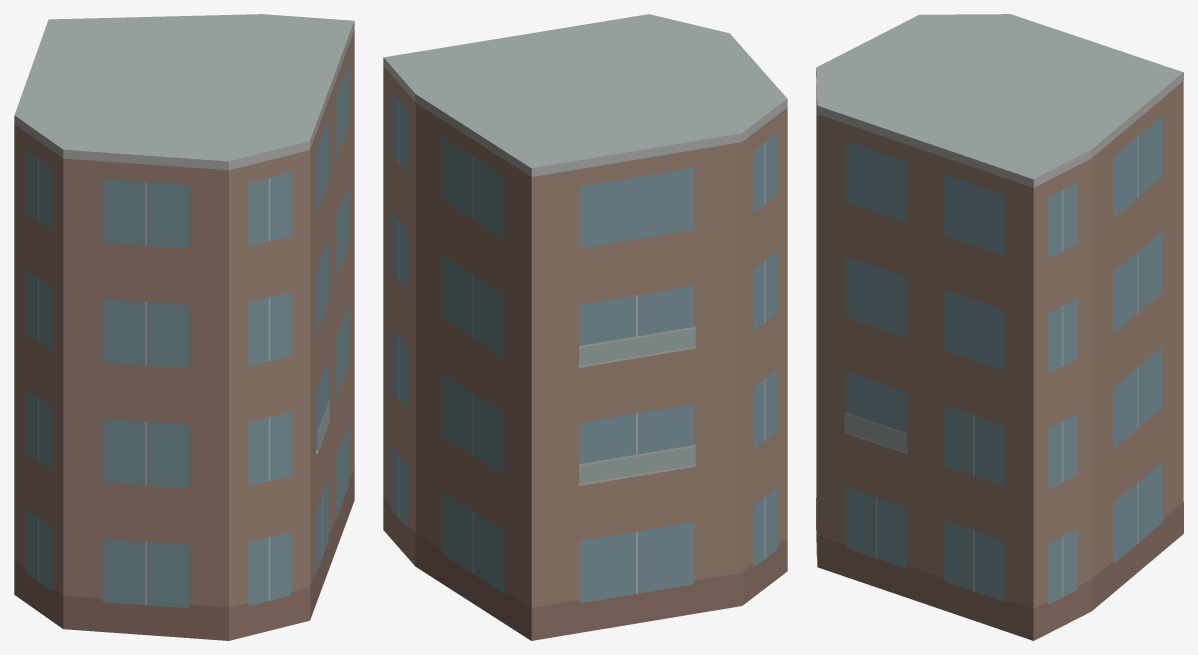
The model's file is survey-upis-32983716.glb.
3 renders of one model, left to right at view 1: azimuth 30°, elevation 25°; view 2: azimuth 150°, elevation 25°; view 3: azimuth 270°, elevation 25°, orthographic. The views are drawn at different scales.
Parts seen in each view (by area): view 1: survey-upis-32983716.tmp; view 2: survey-upis-32983716.tmp; view 3: survey-upis-32983716.tmp.
Part boxes in pixels (<box>): survey-upis-32983716.tmp: <box>14,14,354,640</box>; survey-upis-32983716.tmp: <box>383,14,787,640</box>; survey-upis-32983716.tmp: <box>816,14,1183,640</box>.
Size of the model in its own units: 10.23 by 13.3 by 9.6.
